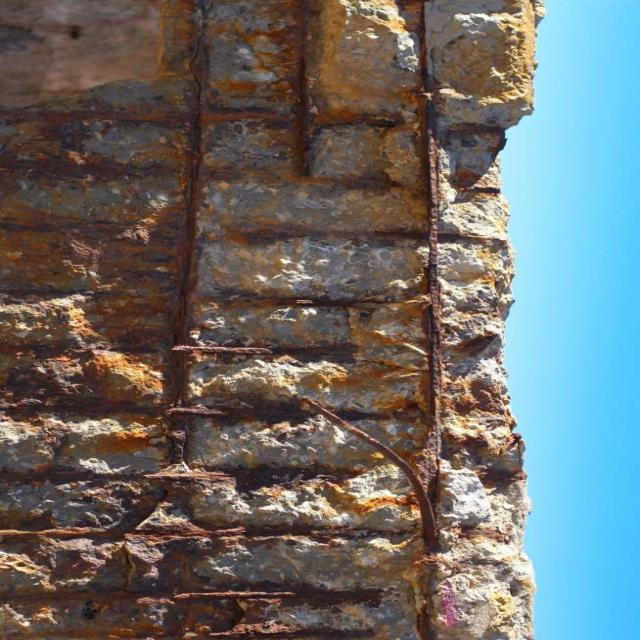spalling: (0, 0, 541, 639)
stain_mould: (302, 100, 441, 550)
